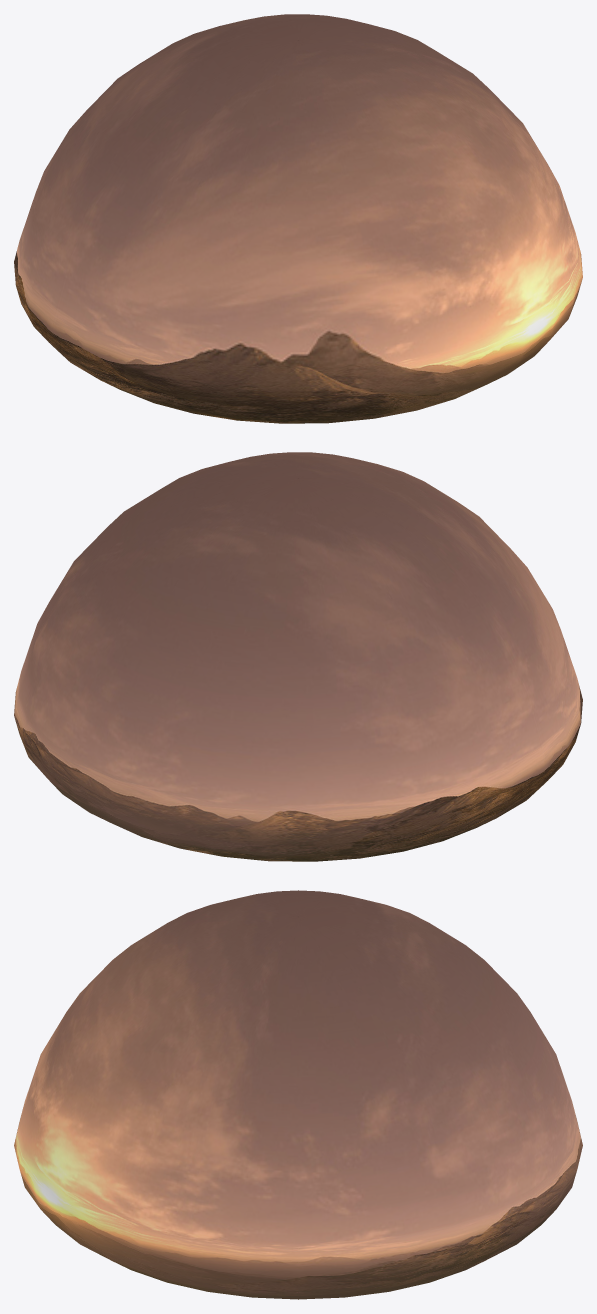
File: an_overgrown_japanese-style_location.glb
3 views of the same model, one above another, from view 1: azimuth 30°, elevation 25°; view 2: azimuth 150°, elevation 25°; view 3: azimuth 270°, elevation 25° (orthographic).
Visible parts, largest first — view 1: Sphere; view 2: Sphere; view 3: Sphere.
Boxes of the visible parts, left/top/right/bottom form: Sphere: left=14, top=14, right=582, bottom=423; Sphere: left=14, top=452, right=582, bottom=861; Sphere: left=14, top=890, right=582, bottom=1299.
Size of the model in its own units: 60.97 by 38.54 by 60.97.
8 materials, 7 textured.
